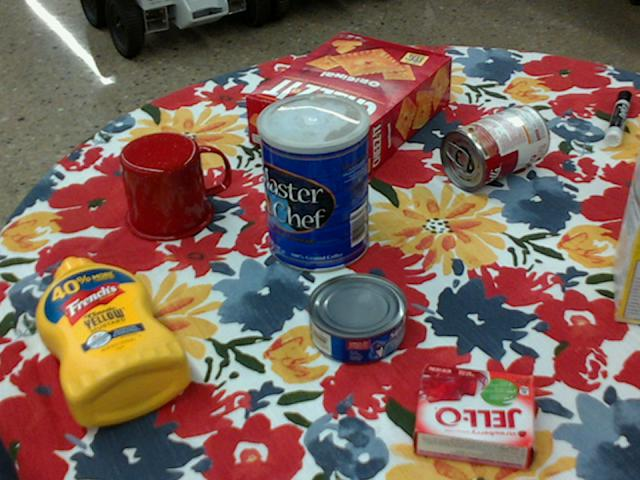cracker_box: (248, 33, 454, 178)
gelatin_box: (414, 365, 539, 471)
large_marker: (605, 90, 634, 145)
master_chef_can: (256, 92, 369, 272)
mug: (119, 131, 229, 241)
mustard_bottle: (36, 257, 191, 425)
sugar_box: (612, 151, 639, 324)
tomato_soup_can: (441, 102, 550, 190)
tuna_fish_can: (307, 274, 407, 365)
